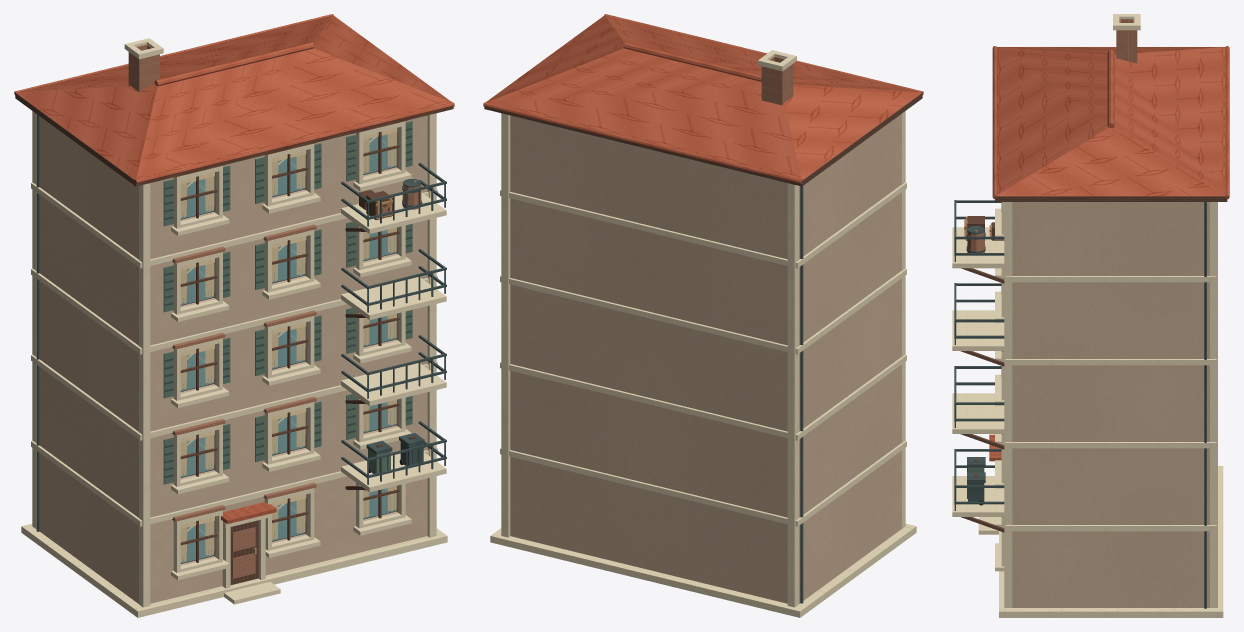
Rendered from highrise-5f.glb.
3 views of the same model, side by side, from view 1: azimuth 30°, elevation 25°; view 2: azimuth 150°, elevation 25°; view 3: azimuth 270°, elevation 25° (orthographic). The views are drawn at different scales.
Parts seen in each view (by area): view 1: building_shell, roof_chimney, balconies, win_4_frame, win_10_frame, win_7_frame, win_8_frame, win_5_frame, win_11_frame, win_13_frame, win_15_frame, win_14_frame (+24 smaller); view 2: building_shell, roof_chimney; view 3: building_shell, roof_chimney, balconies, target_bin_ash, target_barrel.
Boxes of the visible parts, x1=… form: building_shell: x1=21, y1=111, x2=447, y2=617; roof_chimney: x1=14, y1=14, x2=454, y2=186; balconies: x1=341, y1=163, x2=446, y2=492; win_4_frame: x1=163, y1=419, x2=230, y2=493; win_10_frame: x1=163, y1=246, x2=230, y2=321; win_7_frame: x1=163, y1=333, x2=230, y2=407; win_8_frame: x1=255, y1=310, x2=321, y2=385; win_5_frame: x1=255, y1=396, x2=321, y2=471; win_11_frame: x1=255, y1=224, x2=321, y2=299; win_13_frame: x1=163, y1=165, x2=230, y2=235; win_15_frame: x1=346, y1=120, x2=412, y2=191; win_14_frame: x1=255, y1=142, x2=321, y2=213; building_shell: x1=490, y1=111, x2=916, y2=617; roof_chimney: x1=483, y1=14, x2=923, y2=186; building_shell: x1=978, y1=202, x2=1223, y2=617; roof_chimney: x1=992, y1=14, x2=1229, y2=201; balconies: x1=952, y1=200, x2=1004, y2=532; target_bin_ash: x1=967, y1=472, x2=985, y2=505; target_barrel: x1=966, y1=226, x2=985, y2=252.
Size of what is drawn, in the model's own units: 12.36 by 18.78 by 9.69.
Materials: 1 (1 with a texture image).
